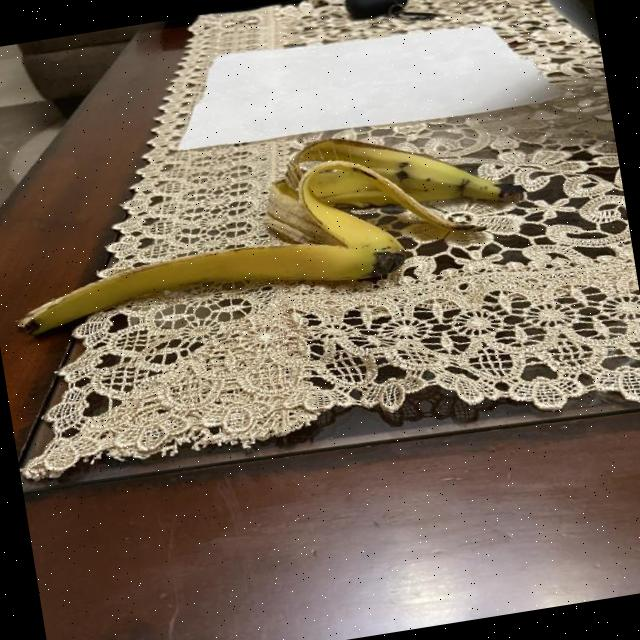banana-peel: (0, 112, 514, 340), (278, 111, 504, 235)
